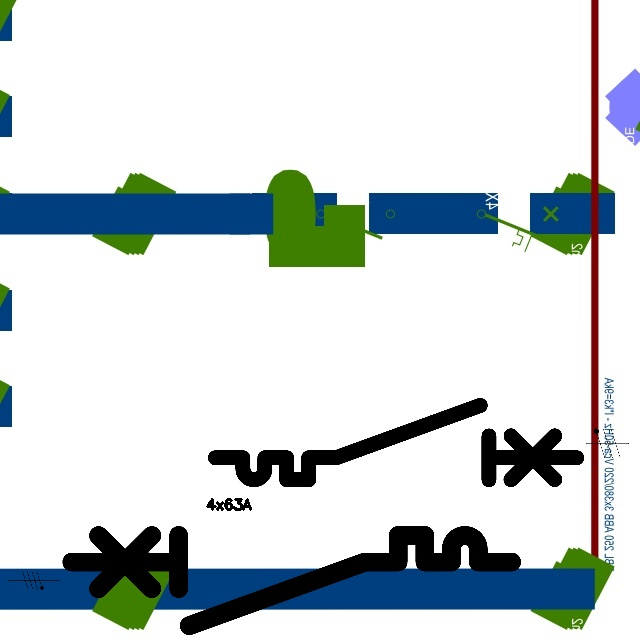interruptor_termomagnetico: (60, 524, 522, 637), (206, 396, 586, 489)
